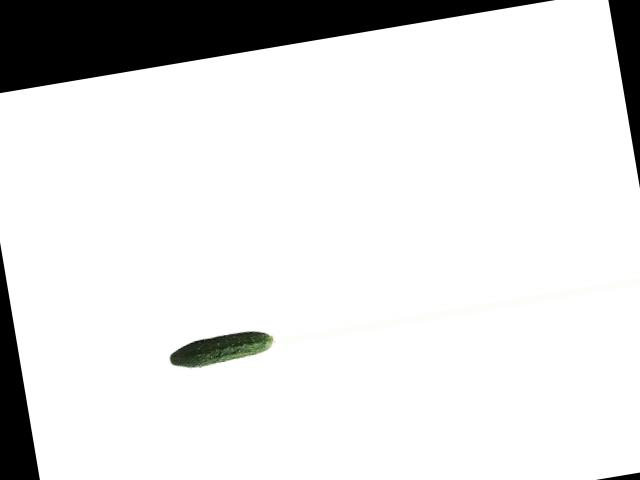cucumber: (167, 327, 275, 371)
